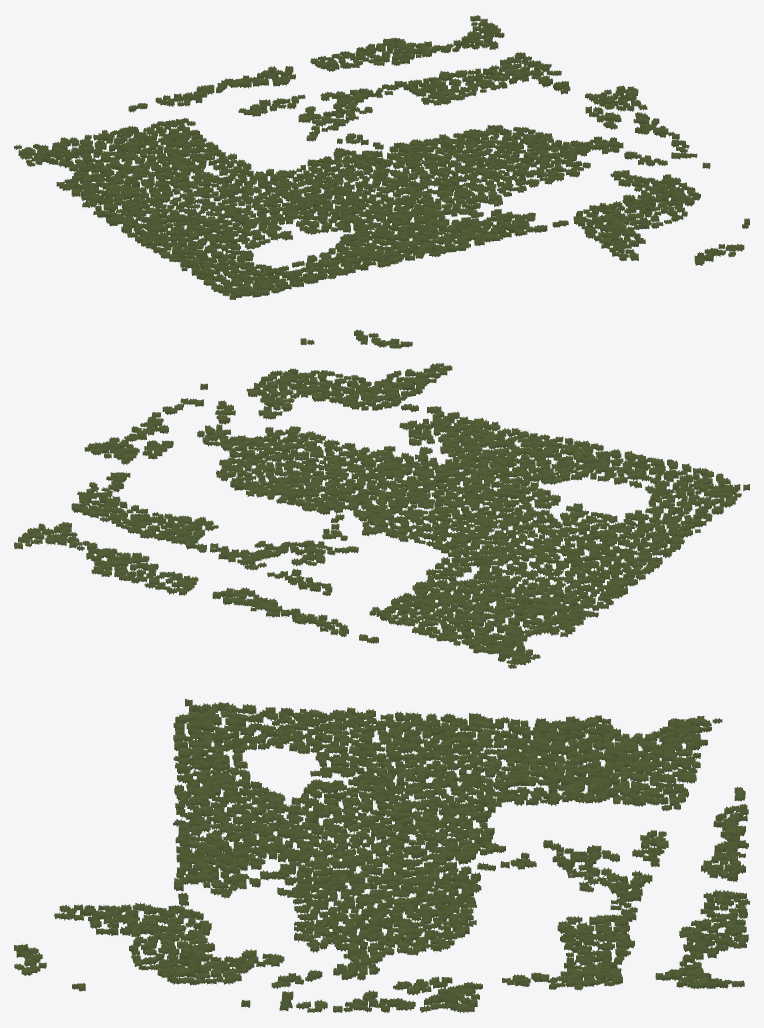
Rendered from TRB8-GRASS-CHUNK-4-4.glb.
3 views of the same model, one above another, from view 1: azimuth 30°, elevation 25°; view 2: azimuth 150°, elevation 25°; view 3: azimuth 270°, elevation 25° (orthographic). The views are drawn at different scales.
Parts seen in each view (by area): view 1: TRB8-GRASS-CHUNK-4-4; view 2: TRB8-GRASS-CHUNK-4-4; view 3: TRB8-GRASS-CHUNK-4-4.
Boxes of the visible parts, box(x1,y1,x2,y2) form: TRB8-GRASS-CHUNK-4-4: box(14, 15, 749, 299); TRB8-GRASS-CHUNK-4-4: box(14, 329, 749, 668); TRB8-GRASS-CHUNK-4-4: box(14, 698, 749, 1012).
Size of the model in its own units: 39.95 by 1.57 by 40.5.
1 material, 1 textured.
